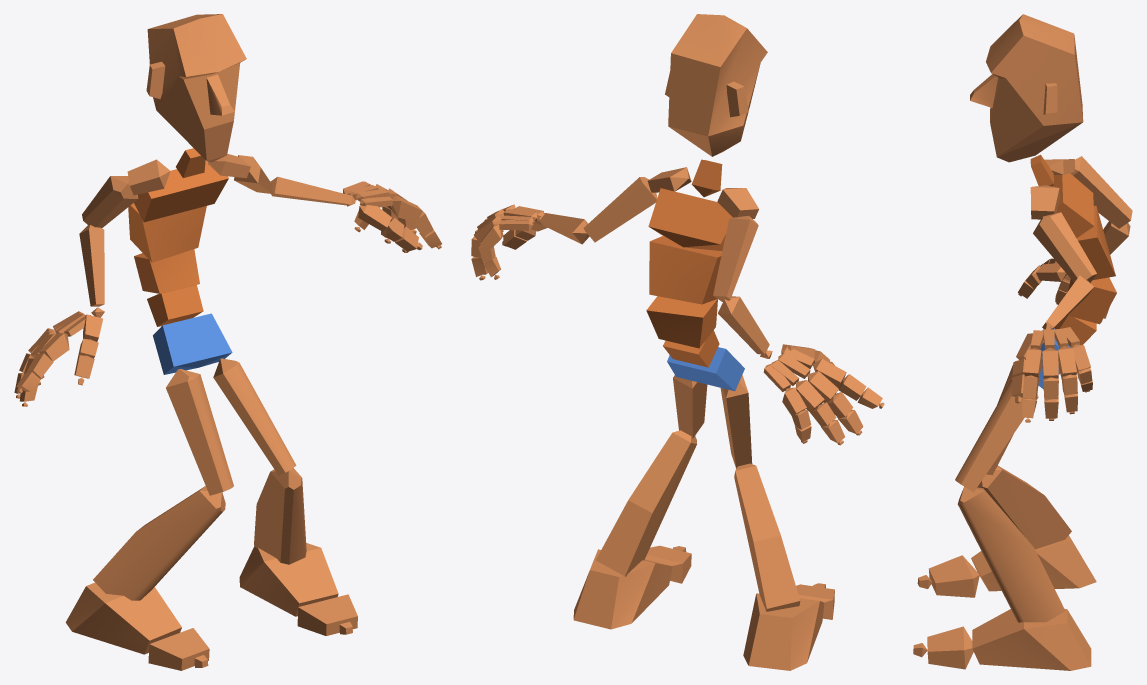
File: prueba98.obj
3 views of the same model, side by side, from view 1: azimuth 30°, elevation 25°; view 2: azimuth 150°, elevation 25°; view 3: azimuth 270°, elevation 25° (orthographic). The views are drawn at different scales.
Parts seen in each view (by area): view 1: BOPED_Head, BOPED_R_leg, BOPED_R_foot, BOPED_R_foot01, BOPED_R_legup, BOPED_L_leg, Bone01, BOPED_L_legup, Bone04, Bone05, Bone03, BOPED_R_foot_toe01 (+9 smaller); view 2: BOPED_Head, BOPED_L_leg, BOPED_R_leg, BOPED_R_foot01, BOPED_R_foot, Bone04, Bone05, Bone03, BOPED_R_arm_upper, BOPED_L_arm_upper, BOPED_R_legup, Bone01 (+9 smaller); view 3: BOPED_Head, BOPED_L_leg, BOPED_R_foot01, BOPED_R_leg, BOPED_L_legup, BOPED_R_foot, BOPED_L_arm_upper, Bone05, BOPED_R_arm_upper, BOPED_R_foot_toe01, BOPED_R_foot_toe04, Bone04 (+14 smaller).
Part boxes in pixels (x1,y1,x2,y2): BOPED_Head: [146, 14, 246, 162]; BOPED_R_leg: [93, 486, 225, 600]; BOPED_R_foot: [65, 582, 181, 654]; BOPED_R_foot01: [239, 543, 338, 616]; BOPED_R_legup: [166, 369, 233, 495]; BOPED_L_leg: [254, 468, 306, 564]; Bone01: [153, 313, 232, 374]; BOPED_L_legup: [213, 358, 296, 475]; Bone04: [128, 203, 206, 262]; Bone05: [134, 161, 228, 222]; Bone03: [134, 249, 199, 293]; BOPED_R_foot_toe01: [148, 628, 209, 670]; BOPED_Head: [665, 14, 767, 156]; BOPED_L_leg: [596, 430, 696, 576]; BOPED_R_leg: [734, 463, 800, 611]; BOPED_R_foot01: [573, 549, 672, 629]; BOPED_R_foot: [743, 593, 824, 670]; Bone04: [649, 236, 722, 304]; Bone05: [648, 188, 732, 250]; Bone03: [646, 296, 717, 348]; BOPED_R_arm_upper: [713, 215, 758, 301]; BOPED_L_arm_upper: [583, 177, 657, 242]; BOPED_R_legup: [720, 375, 752, 468]; Bone01: [667, 347, 744, 391]; BOPED_Head: [970, 14, 1083, 162]; BOPED_L_leg: [957, 486, 1065, 622]; BOPED_R_foot01: [972, 608, 1091, 670]; BOPED_R_leg: [977, 465, 1071, 549]; BOPED_L_legup: [955, 379, 1038, 492]; BOPED_R_foot: [971, 535, 1096, 591]; BOPED_L_arm_upper: [1033, 212, 1096, 282]; Bone05: [1052, 173, 1094, 238]; BOPED_R_arm_upper: [1070, 156, 1132, 228]; BOPED_R_foot_toe01: [929, 555, 979, 597]; BOPED_R_foot_toe04: [927, 626, 973, 669]; Bone04: [1073, 205, 1115, 282].
Size of the model in its own units: 130 by 181 by 60.78.
